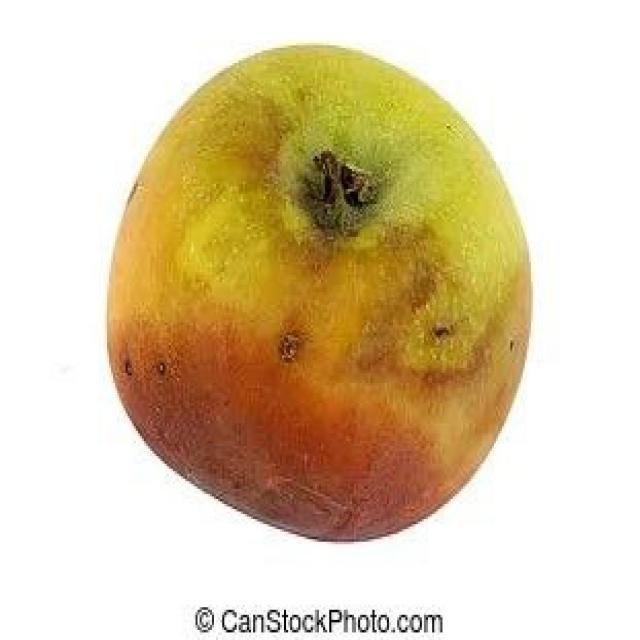Rotten: (115, 48, 543, 540)
